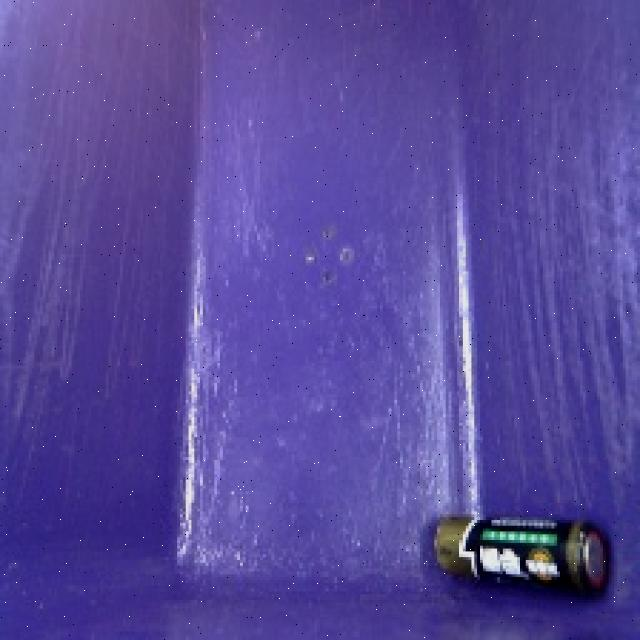battery: (418, 509, 616, 600)
